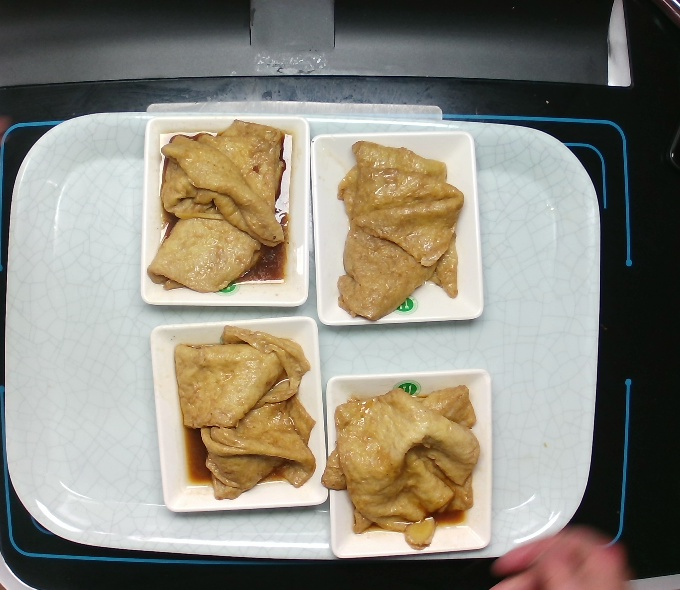wcq-YouDouFu: (321, 384, 484, 549), (327, 137, 469, 321), (147, 119, 296, 294), (167, 323, 315, 499)
